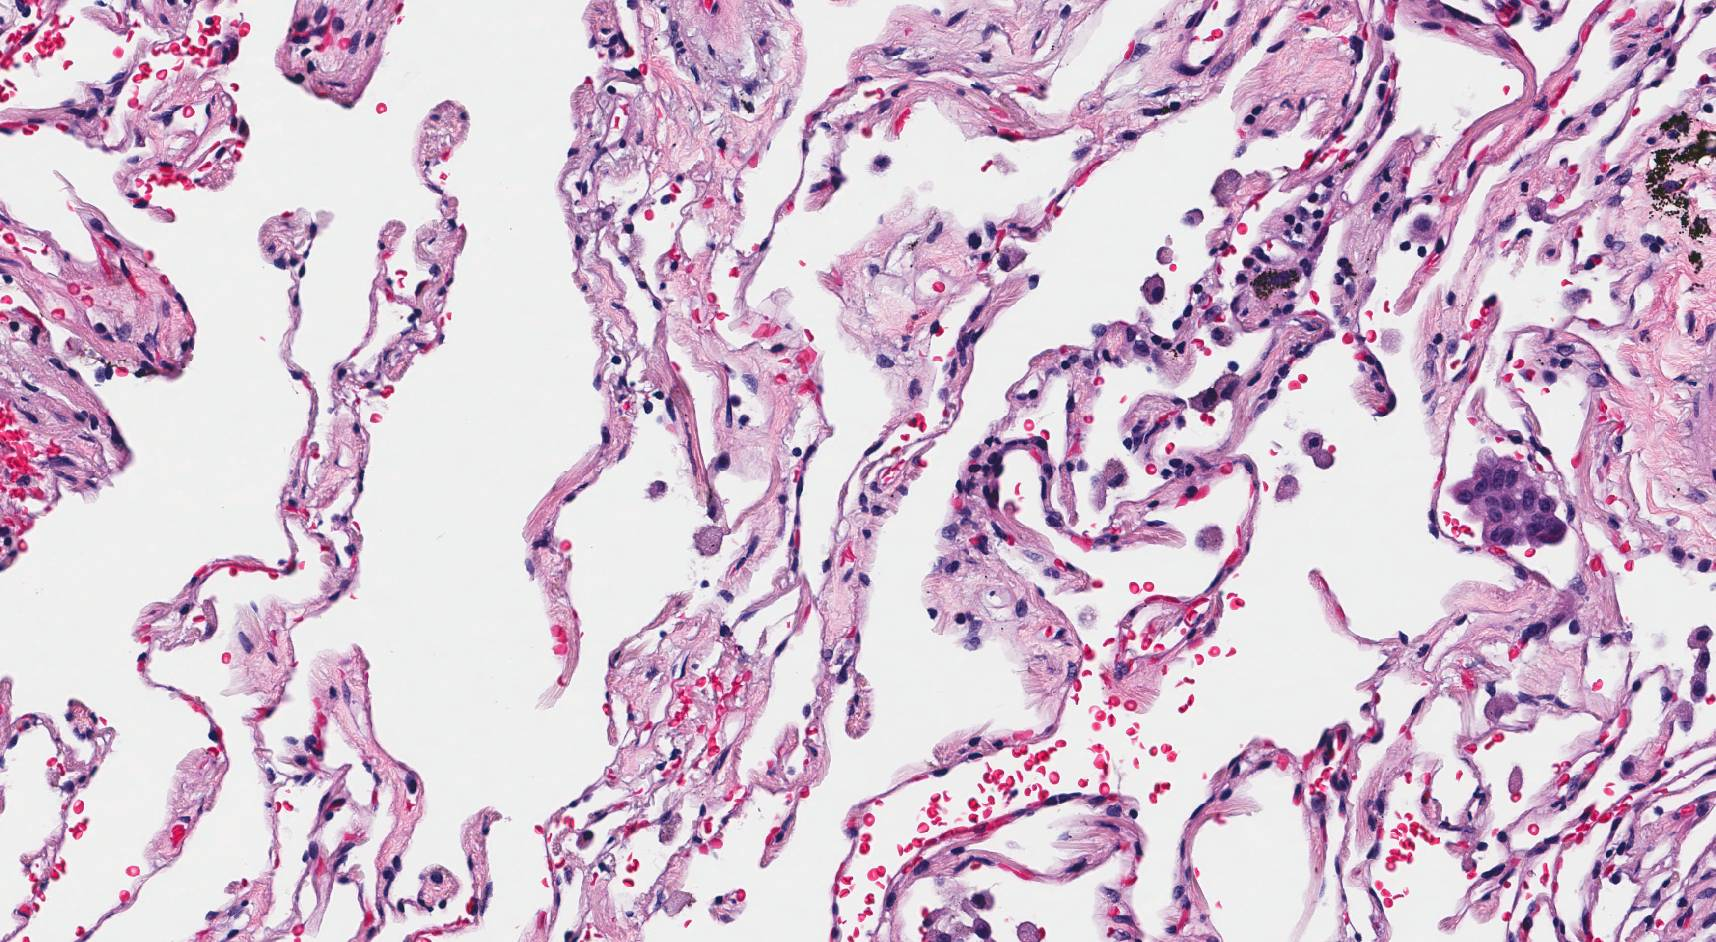stas: (1447, 449, 1568, 554)
